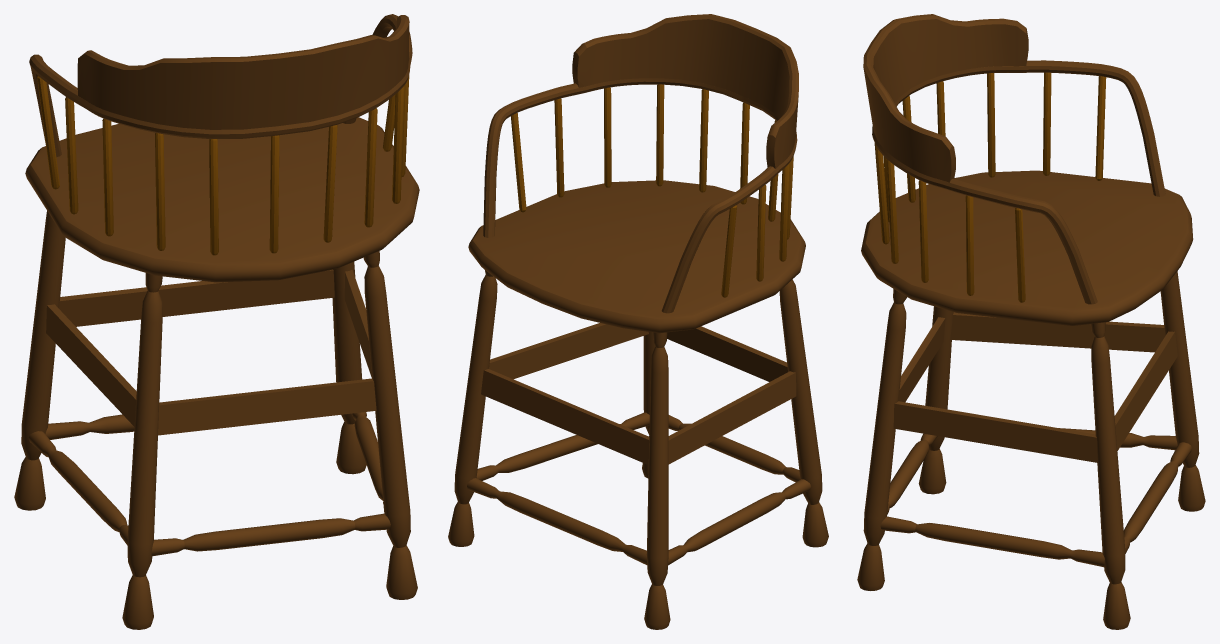
The model's file is chair.gltf.
3 renders of one model, left to right at view 1: azimuth 30°, elevation 25°; view 2: azimuth 150°, elevation 25°; view 3: azimuth 270°, elevation 25°, orthographic. The views are drawn at different scales.
Visible parts, largest first — view 1: Cylinder008_Colours_0; view 2: Cylinder008_Colours_0; view 3: Cylinder008_Colours_0.
Part boxes in pixels (x1=…): Cylinder008_Colours_0: x1=14, y1=14, x2=419, y2=629; Cylinder008_Colours_0: x1=448, y1=14, x2=828, y2=629; Cylinder008_Colours_0: x1=857, y1=14, x2=1205, y2=629.
Bounding box in the file's own units: 12.6 × 19.55 × 12.51.
1 material, 1 textured.
